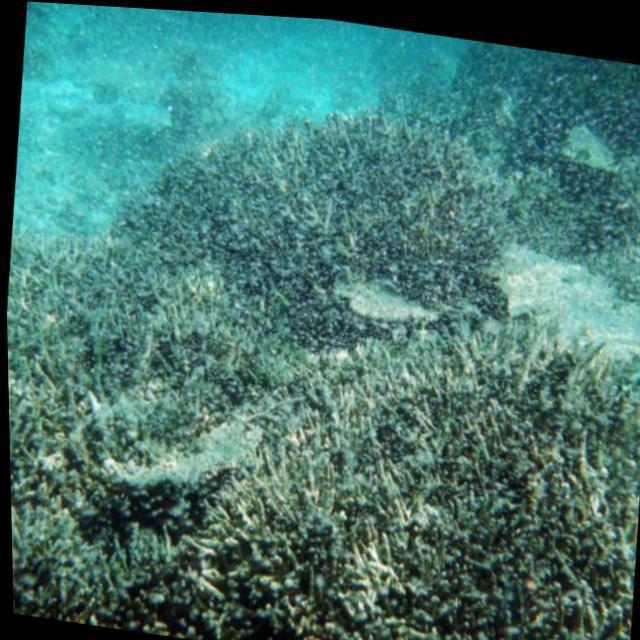Dead Coral: (1, 37, 640, 640), (4, 215, 299, 640), (265, 307, 640, 640), (274, 93, 564, 316)
